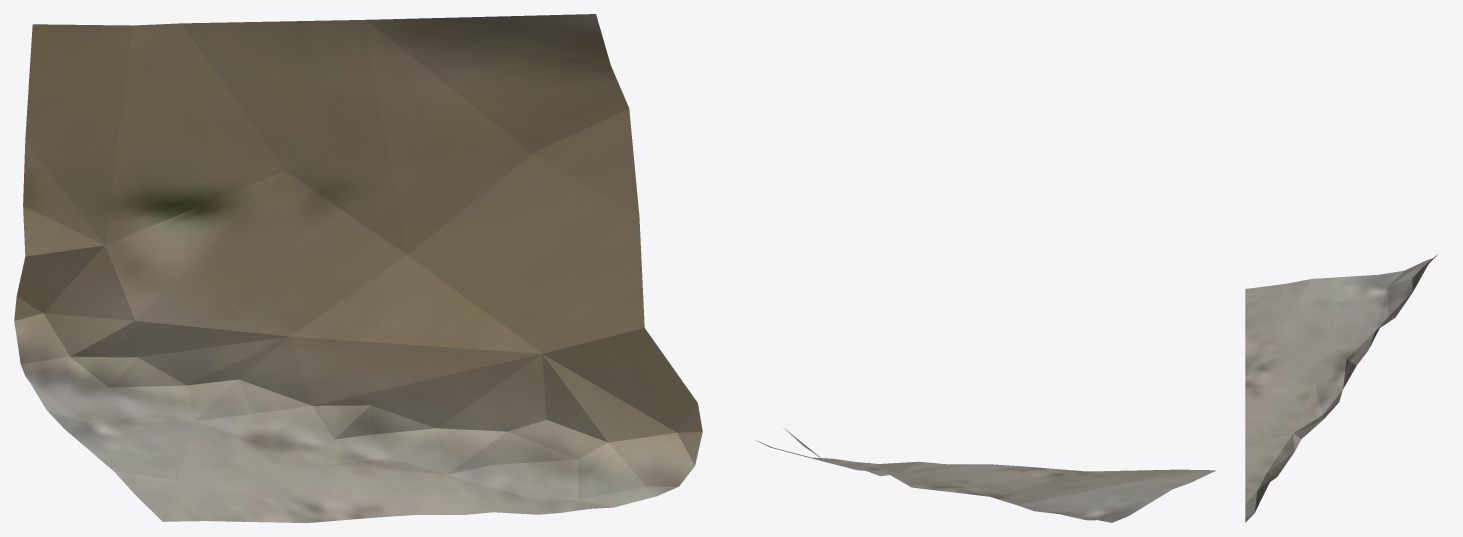
3 views of the same model, side by side, from view 1: azimuth 30°, elevation 25°; view 2: azimuth 150°, elevation 25°; view 3: azimuth 270°, elevation 25° (orthographic). The views are drawn at different scales.
Bounding box in the file's own units: 0.3982 × 0.3509 × 0.19.
1 material, 1 textured.
